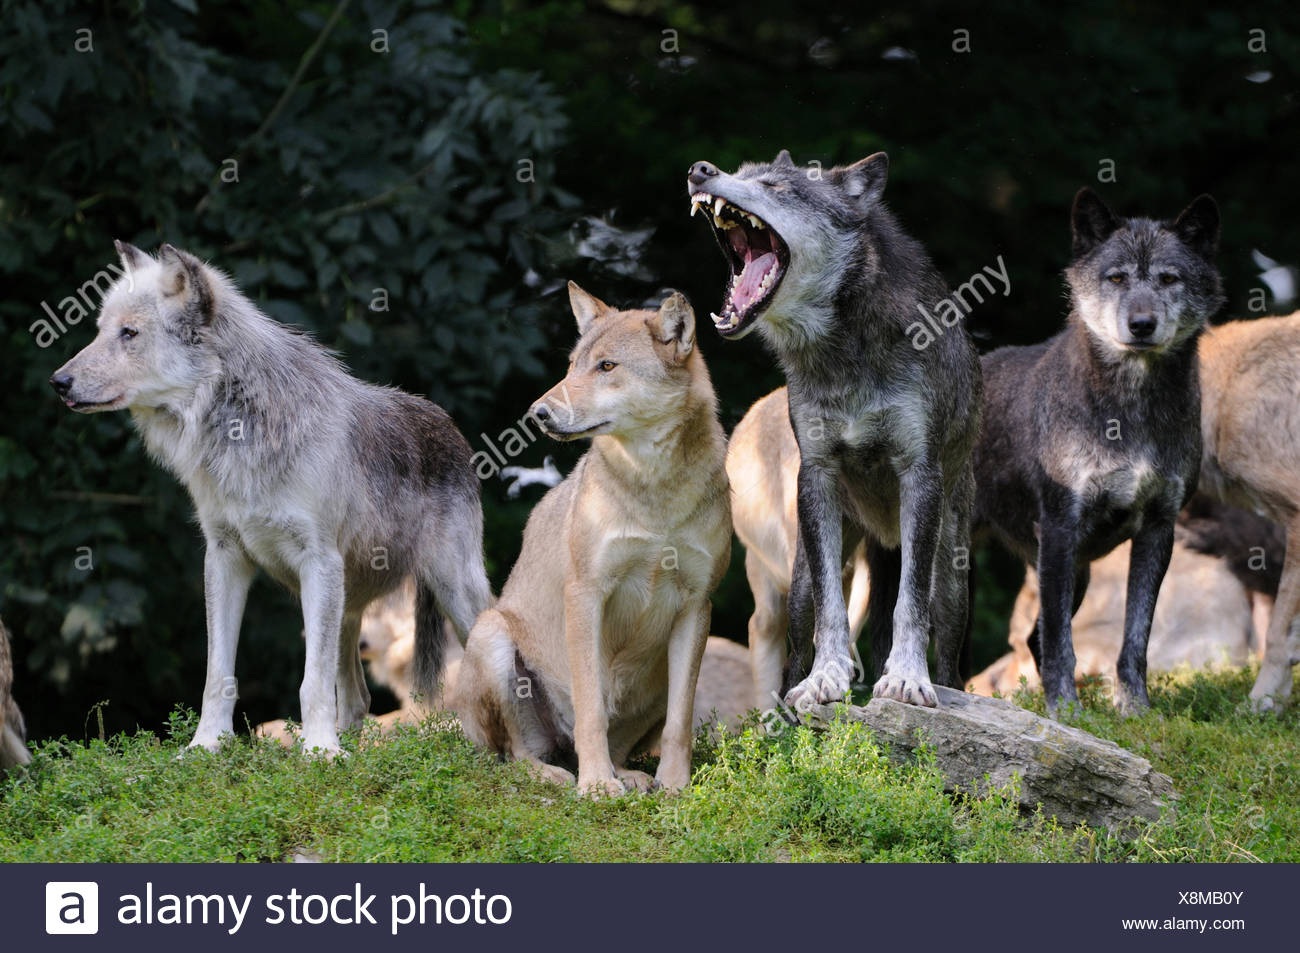Lobo: (35, 225, 473, 766), (680, 117, 997, 720), (495, 246, 727, 785), (1009, 160, 1224, 731)
